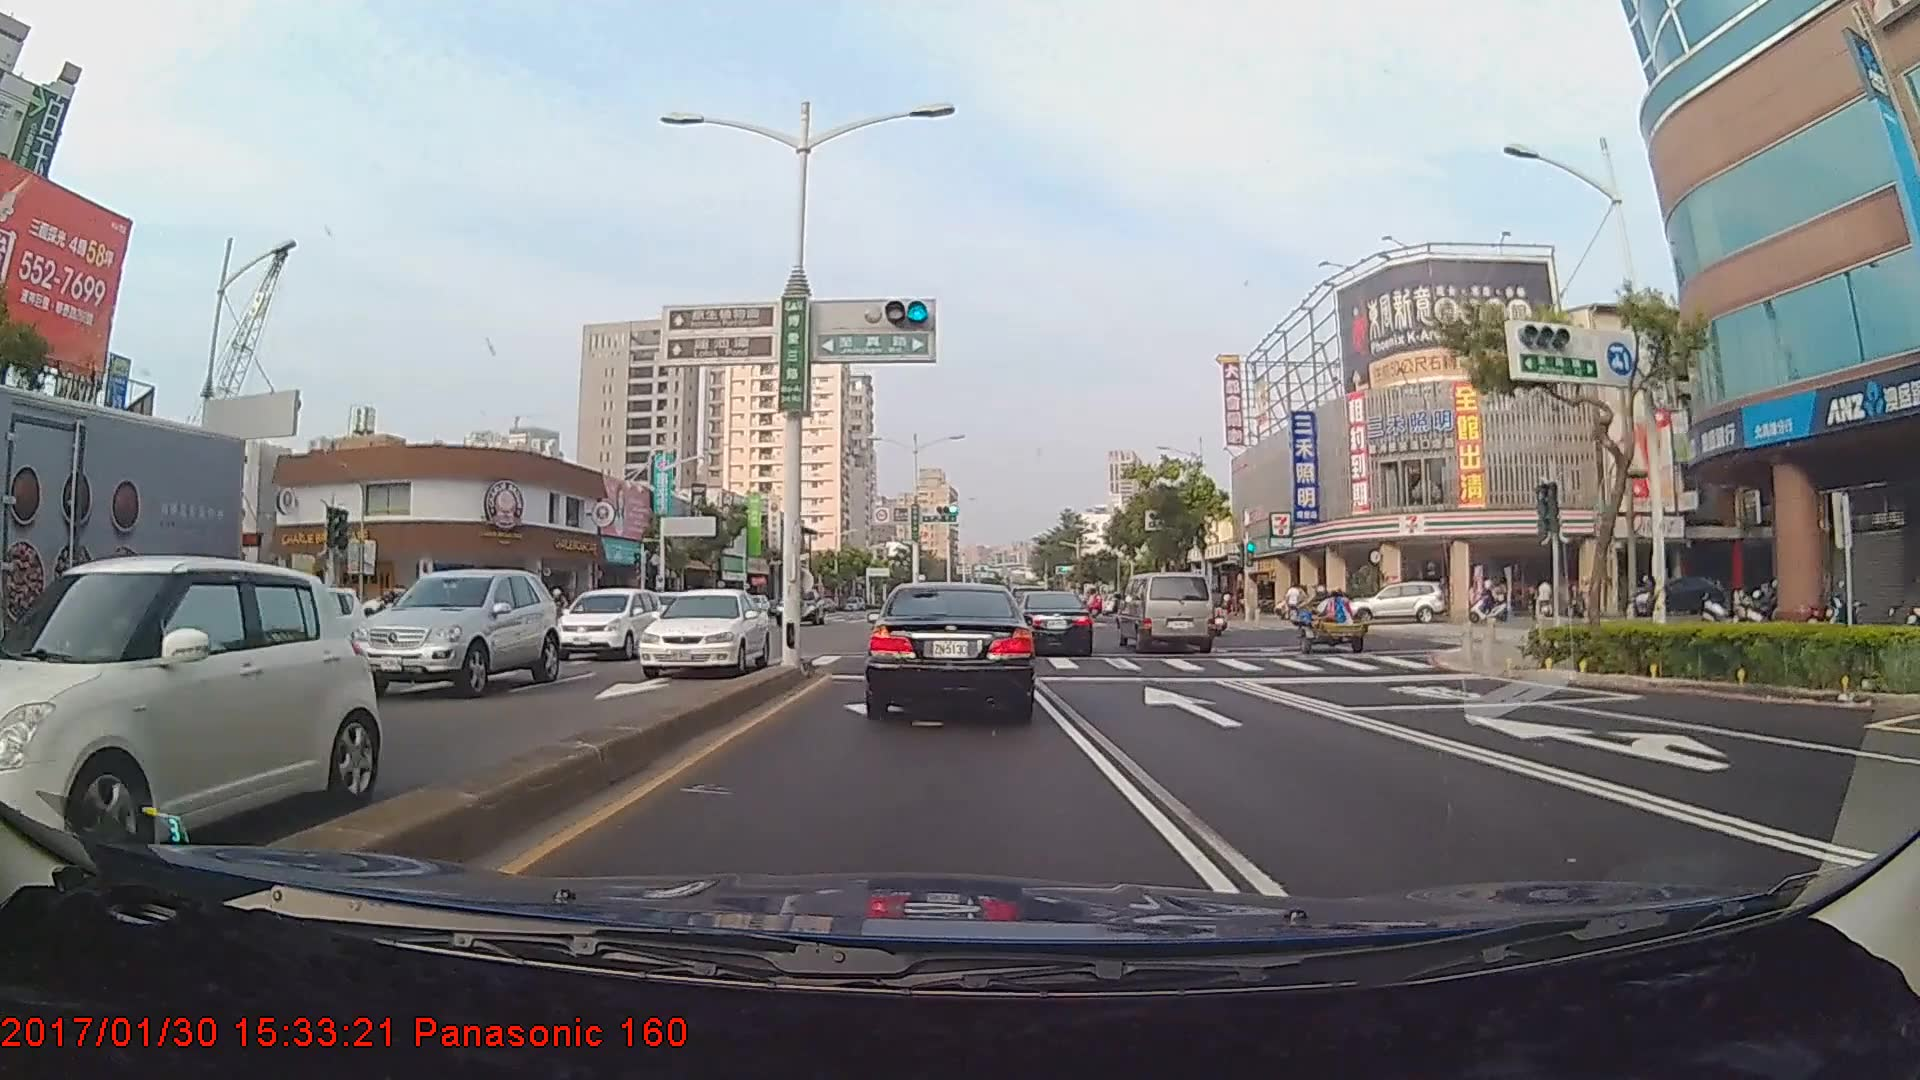vehicle: (0, 550, 353, 866), (0, 390, 247, 748), (339, 560, 553, 696), (869, 578, 1034, 721), (626, 582, 775, 678), (257, 580, 371, 670), (543, 583, 659, 659), (1120, 571, 1216, 655), (1014, 591, 1095, 655), (1360, 580, 1449, 625)
